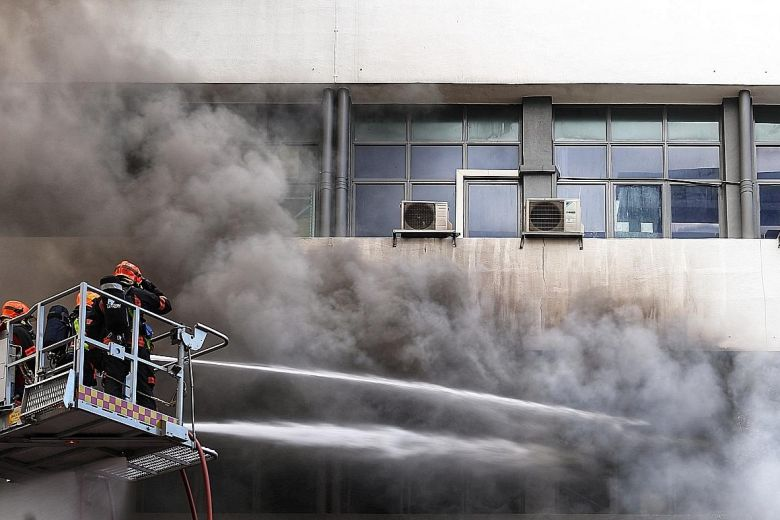smoke: (225, 248, 764, 500), (7, 2, 288, 244)
